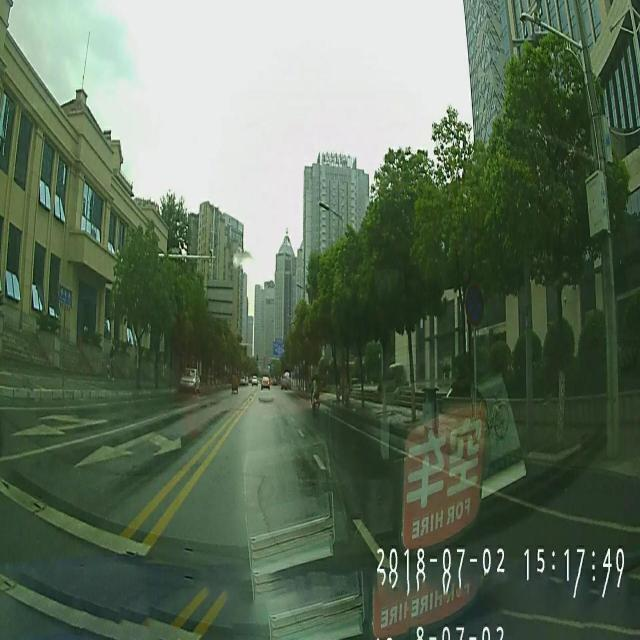car: (179, 366, 202, 396), (282, 375, 290, 388), (262, 379, 270, 390)
